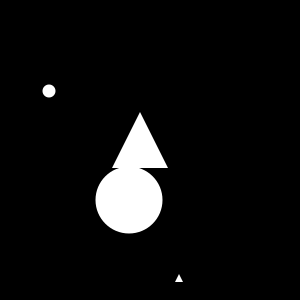rectangle: (96, 166, 162, 234), (42, 84, 56, 98)
triangle: (112, 112, 168, 168), (175, 274, 183, 282)
